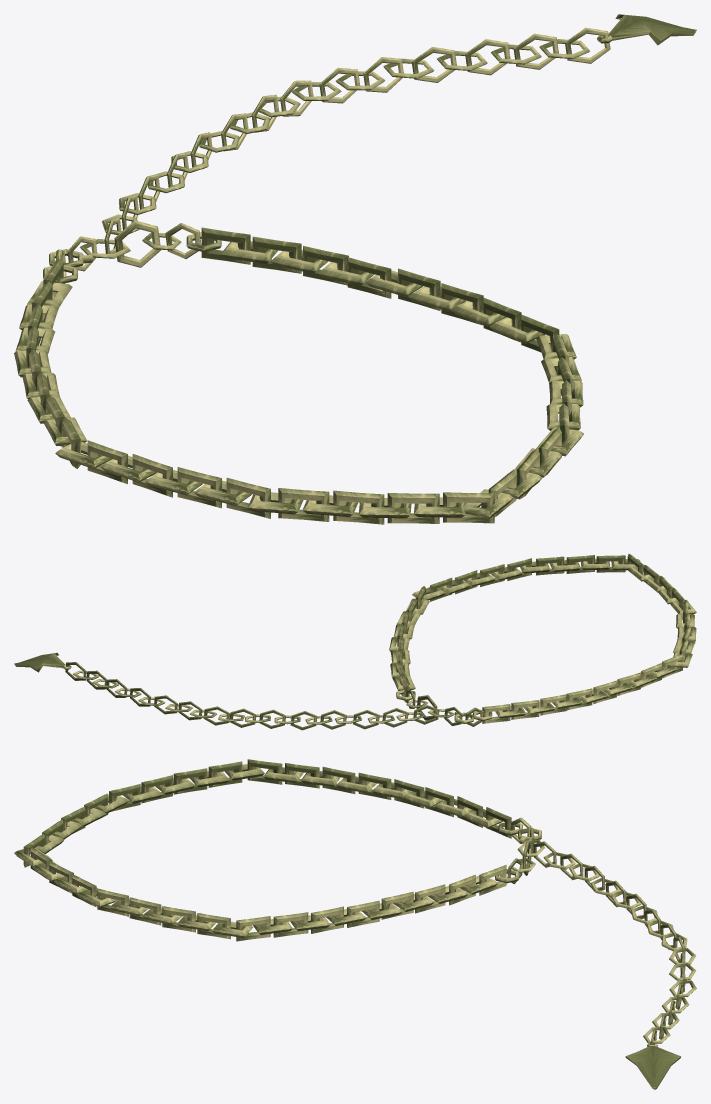
File: Necklace1.fbx
3 views of the same model, one above another, from view 1: azimuth 30°, elevation 25°; view 2: azimuth 150°, elevation 25°; view 3: azimuth 270°, elevation 25° (orthographic). The views are drawn at different scales.
Parts seen in each view (by area): view 1: goldleaf1, chainlink28, chainlink24, chainlink26, chainlink30, chainlink61, chainlink62, circlechain9, chainlink32, chainlink20, chainlink22, chainlink57 (+1 smaller); view 2: goldleaf1, chainlink53, chainlink1, chainlink2, chainlink49, chainlink51, chainlink4; view 3: goldleaf1.
Part boxes in pixels (bbox=[...]): goldleaf1: bbox=[597, 14, 696, 45]; chainlink28: bbox=[387, 493, 439, 523]; chainlink24: bbox=[278, 488, 329, 521]; chainlink26: bbox=[333, 490, 384, 524]; chainlink30: bbox=[443, 492, 494, 523]; chainlink61: bbox=[201, 227, 250, 264]; chainlink62: bbox=[252, 236, 301, 273]; circlechain9: bbox=[114, 220, 160, 267]; chainlink32: bbox=[347, 257, 391, 298]; chainlink20: bbox=[177, 467, 221, 508]; chainlink22: bbox=[226, 477, 270, 518]; chainlink57: bbox=[303, 245, 348, 285]; goldleaf1: bbox=[14, 652, 71, 672]; chainlink53: bbox=[596, 555, 625, 572]; chainlink1: bbox=[482, 704, 510, 723]; chainlink2: bbox=[511, 700, 539, 719]; chainlink49: bbox=[536, 556, 564, 575]; chainlink51: bbox=[566, 555, 594, 573]; chainlink4: bbox=[540, 694, 566, 715]; goldleaf1: bbox=[625, 1042, 680, 1089].
Bounding box in the file's own units: 215 × 10.69 × 197.
